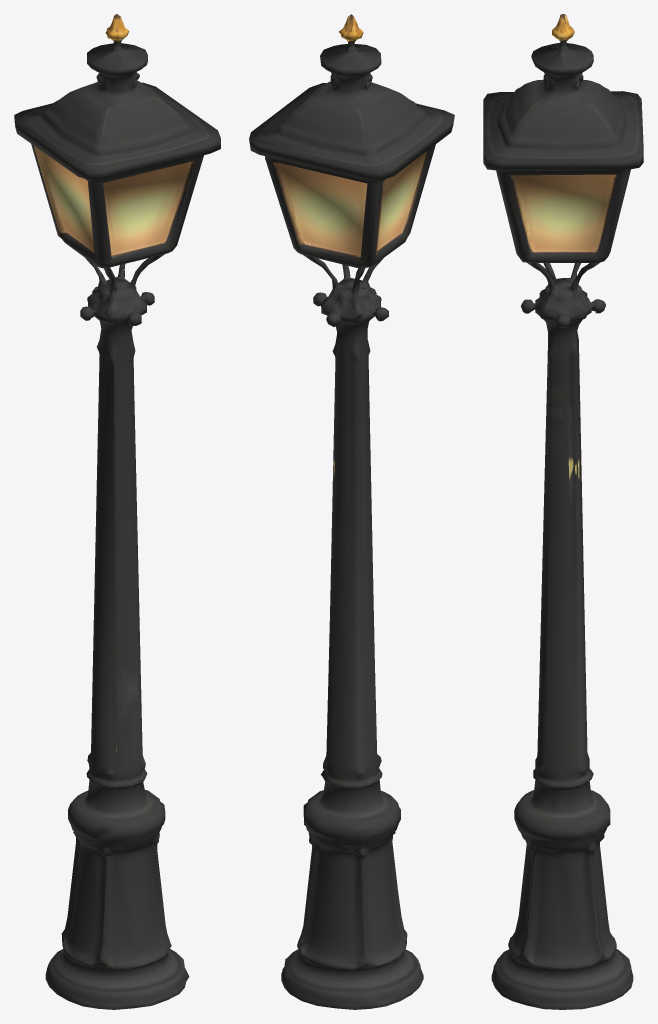
The model's file is selected.glb.
The picture shows the model from 3 angles, left to right: view 1: azimuth 30°, elevation 25°; view 2: azimuth 150°, elevation 25°; view 3: azimuth 270°, elevation 25°; orthographic projection.
Parts seen in each view (by area): view 1: tripo_node_35fefb0b-7dee-43aa-9218-a91e8e023644; view 2: tripo_node_35fefb0b-7dee-43aa-9218-a91e8e023644; view 3: tripo_node_35fefb0b-7dee-43aa-9218-a91e8e023644.
Part boxes in pixels (box(x1,y1,x2,y2)): tripo_node_35fefb0b-7dee-43aa-9218-a91e8e023644: box(14, 14, 220, 1009); tripo_node_35fefb0b-7dee-43aa-9218-a91e8e023644: box(249, 14, 454, 1009); tripo_node_35fefb0b-7dee-43aa-9218-a91e8e023644: box(483, 14, 643, 1009).
Size of the model in its own units: 0.1543 by 0.998 by 0.1504.
1 material, 1 textured.
